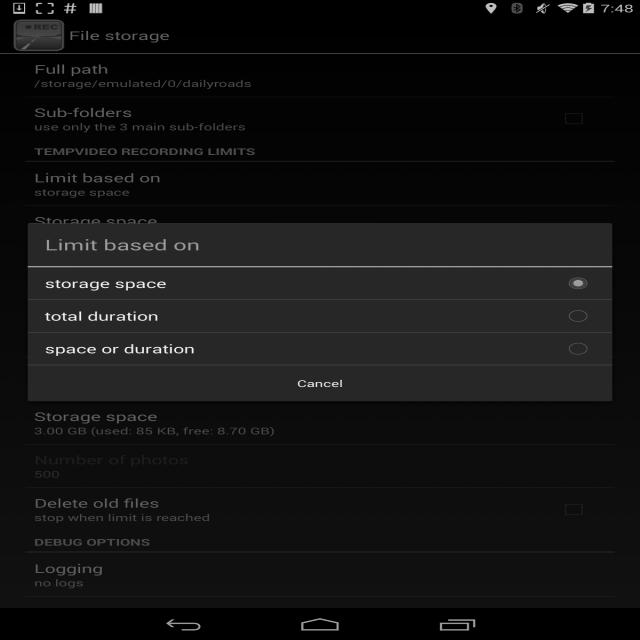ImageView: (15, 21, 66, 52)
RadioButton: (567, 338, 599, 360), (564, 303, 595, 324), (562, 273, 595, 290)
TextView: (29, 63, 262, 96), (25, 494, 245, 528), (36, 338, 204, 360), (36, 305, 173, 328), (41, 236, 202, 254), (37, 273, 185, 292), (286, 378, 360, 391)
